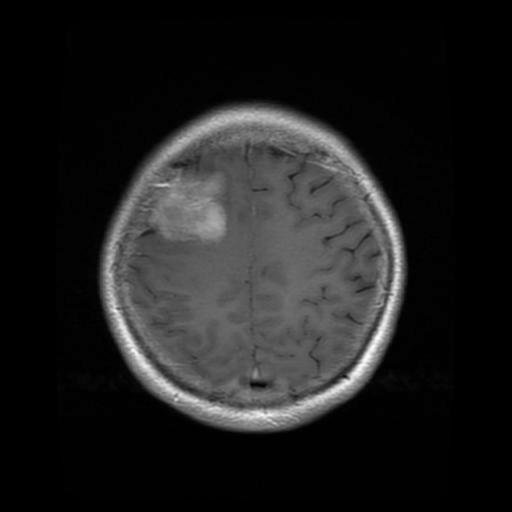Tumour-Pituitary: (127, 151, 257, 260)
